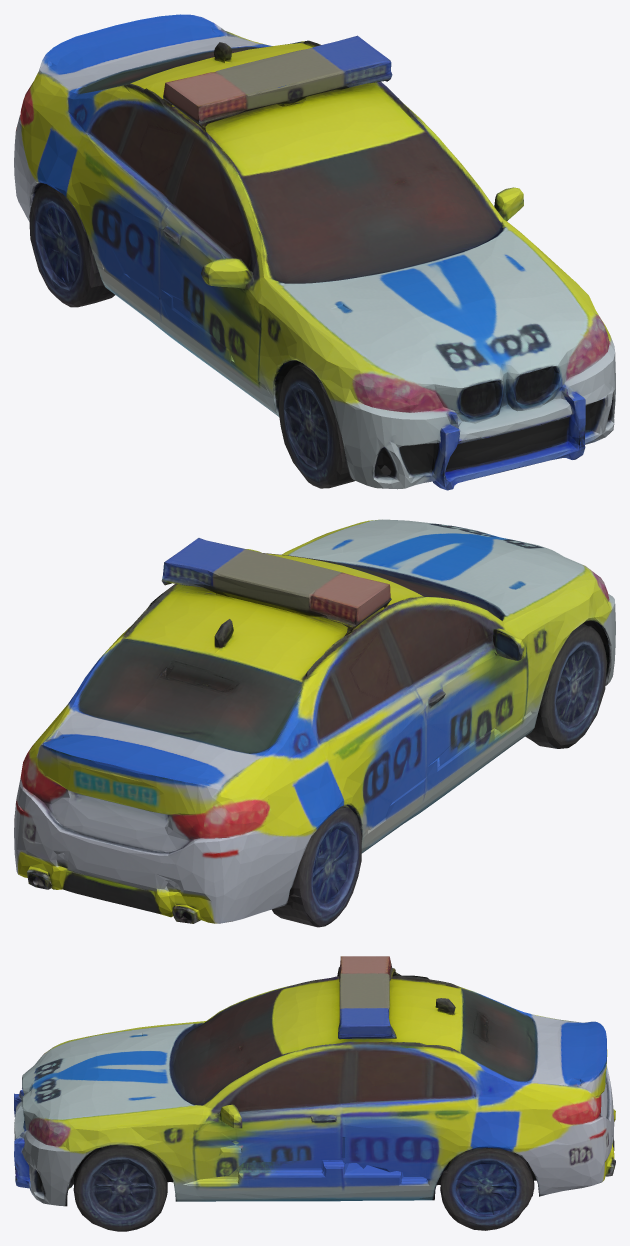
The model's file is police_car.glb.
3 views of the same model, one above another, from view 1: azimuth 30°, elevation 25°; view 2: azimuth 150°, elevation 25°; view 3: azimuth 270°, elevation 25° (orthographic). The views are drawn at different scales.
Visible parts, largest first — view 1: world; view 2: world; view 3: world.
Boxes of the visible parts, x1,y1,x2,y2 form: world: [14, 14, 615, 490]; world: [14, 519, 615, 927]; world: [14, 956, 615, 1231].
Bounding box in the file's own units: 0.4536 × 0.3552 × 0.9988.
1 material, 1 textured.
